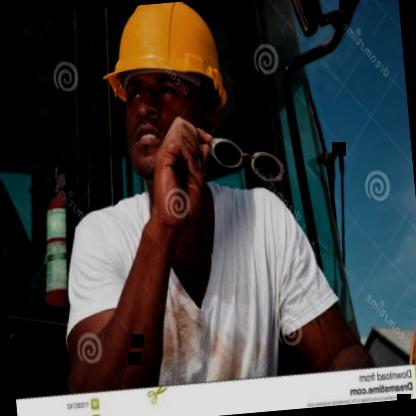helmet: (98, 0, 236, 186)
